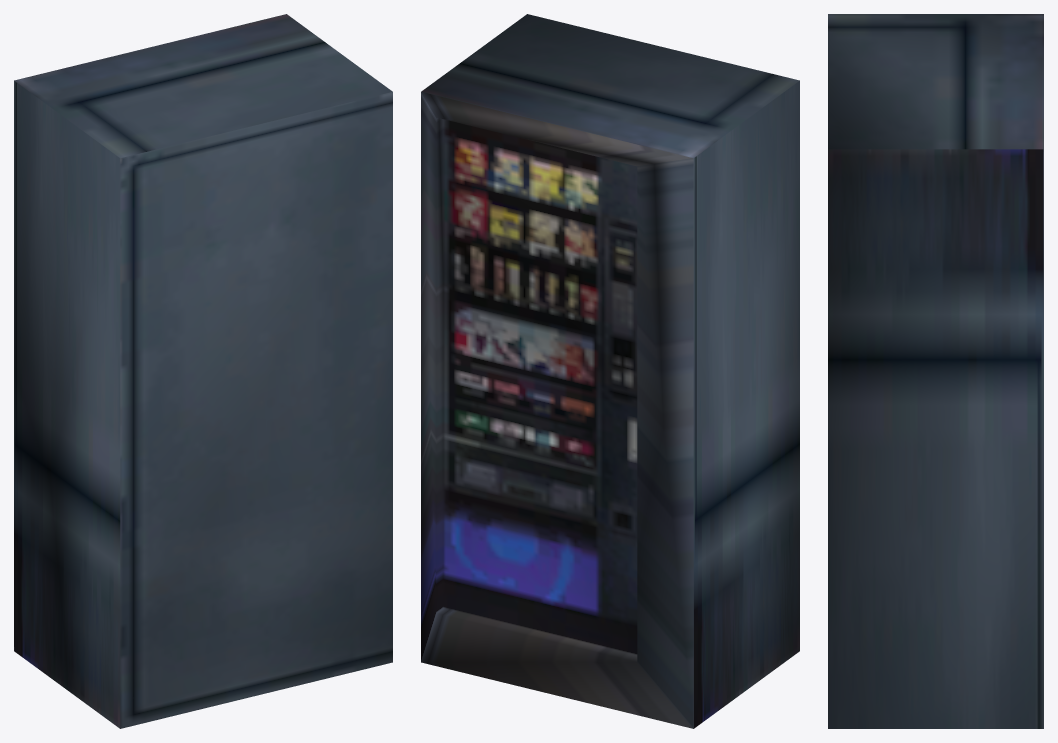
File: USA - Prop - Asian Vending Machine - PAVending.glb
3 views of the same model, side by side, from view 1: azimuth 30°, elevation 25°; view 2: azimuth 150°, elevation 25°; view 3: azimuth 270°, elevation 25° (orthographic).
Visible parts, largest first — view 1: PAVENDING; view 2: PAVENDING; view 3: PAVENDING.
Part boxes in pixels (x1=…): PAVENDING: x1=14, y1=14, x2=392, y2=728; PAVENDING: x1=421, y1=14, x2=799, y2=728; PAVENDING: x1=828, y1=14, x2=1043, y2=728.
Bounding box in the file's own units: 6.95 × 13.9 × 4.69.
1 material, 1 textured.
